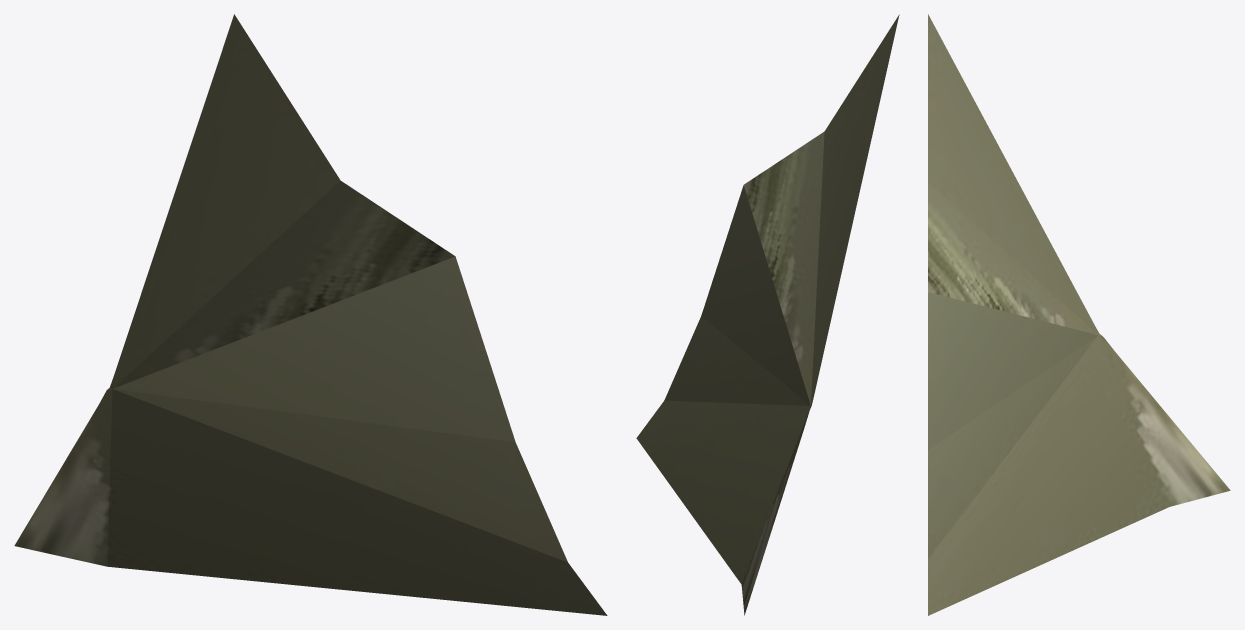
3 views of the same model, side by side, from view 1: azimuth 30°, elevation 25°; view 2: azimuth 150°, elevation 25°; view 3: azimuth 270°, elevation 25° (orthographic). The views are drawn at different scales.
Bounding box in the file's own units: 2.05 × 3.64 × 2.1.
1 material, 1 textured.
